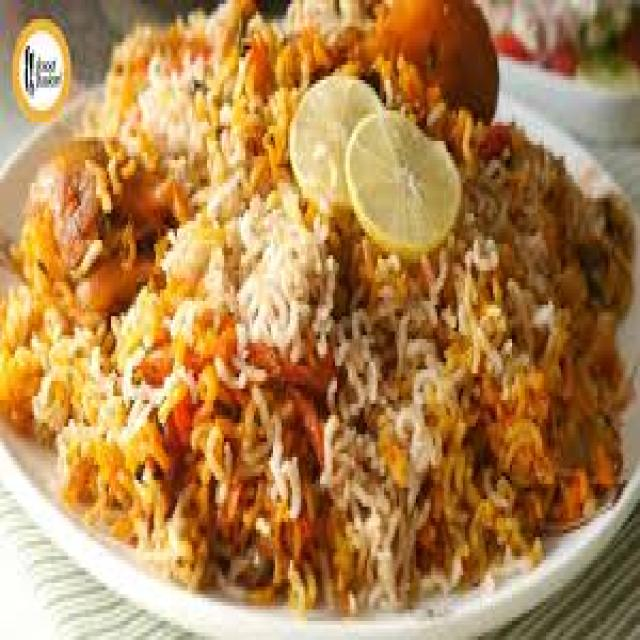Wet Waste: (14, 6, 628, 611)
